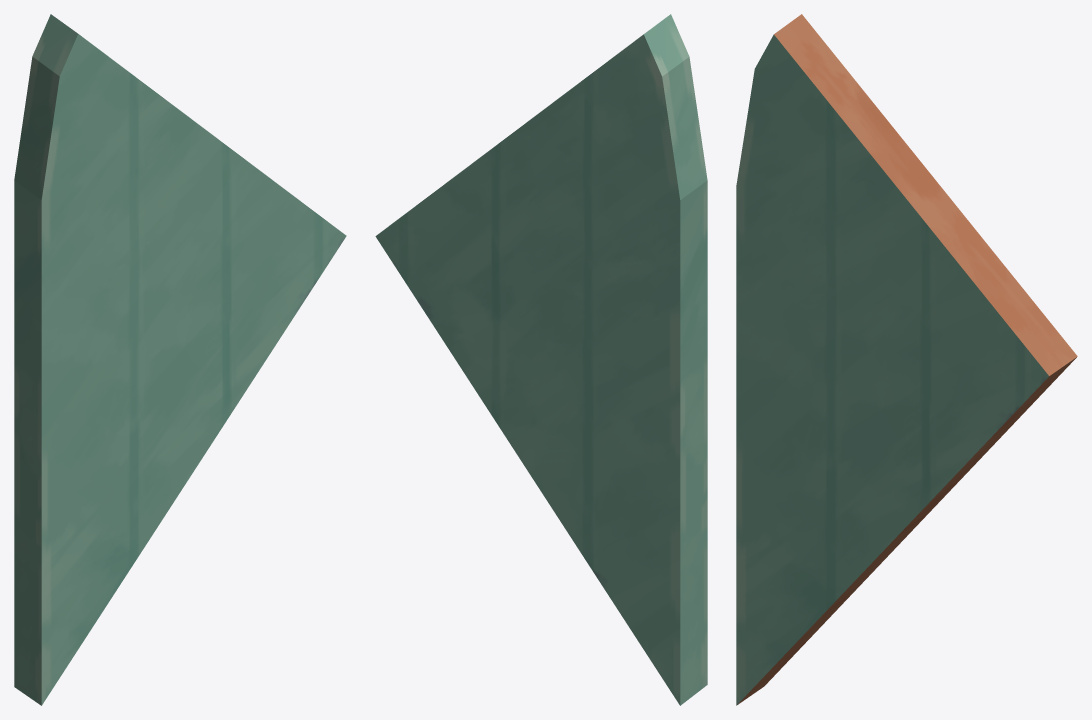
Rendered from door2_teal_s04.fbx.
The picture shows the model from 3 angles, left to right: view 1: azimuth 30°, elevation 25°; view 2: azimuth 150°, elevation 25°; view 3: azimuth 330°, elevation 25°; orthographic projection. The views are drawn at different scales.
Parts seen in each view (by area): view 1: door2_teal_s04; view 2: door2_teal_s04; view 3: door2_teal_s04.
Part boxes in pixels (box(x1,y1,x2,y2)): door2_teal_s04: box(14, 14, 346, 705); door2_teal_s04: box(375, 14, 707, 705); door2_teal_s04: box(736, 14, 1077, 705).
Size of the model in its own units: 1.8 by 3.74 by 0.28.
